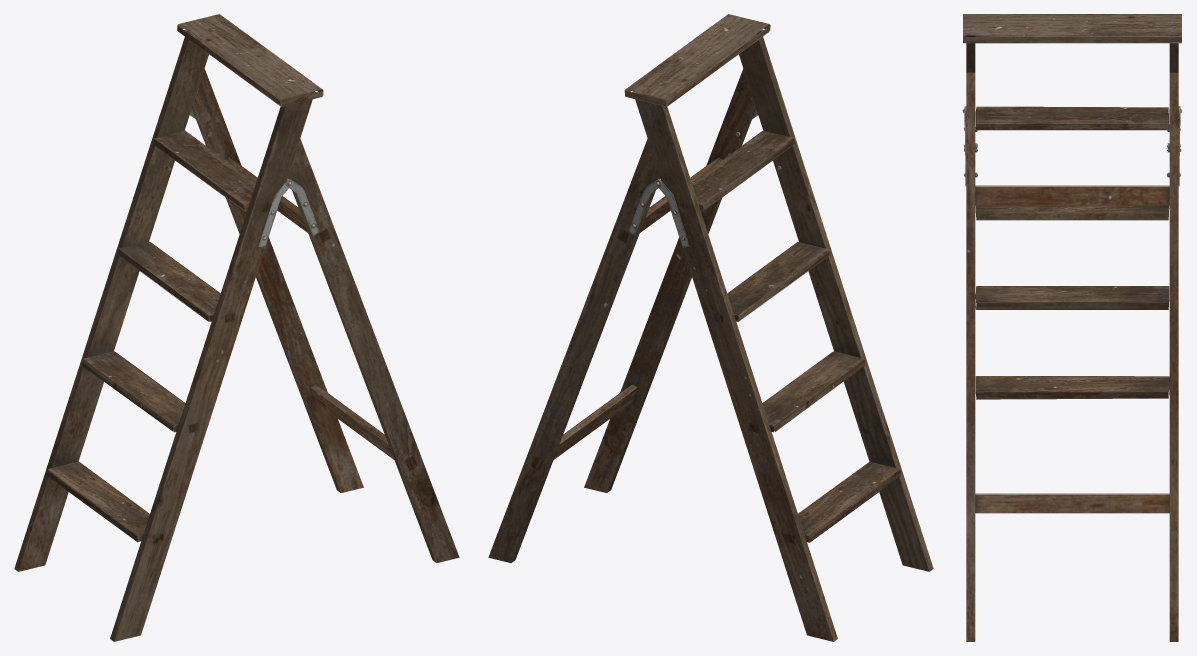
The model's file is wooden_ladder_1k.gltf.lod.glb.
3 renders of one model, left to right at view 1: azimuth 30°, elevation 25°; view 2: azimuth 150°, elevation 25°; view 3: azimuth 270°, elevation 25°, orthographic. The views are drawn at different scales.
Visible parts, largest first — view 1: wooden_ladder_steps, wooden_ladder_supports; view 2: wooden_ladder_steps, wooden_ladder_supports; view 3: wooden_ladder_steps, wooden_ladder_supports.
Boxes of the visible parts, box(x1,y1,x2,y2) form: wooden_ladder_steps: box(14, 14, 323, 641); wooden_ladder_supports: box(190, 68, 459, 562); wooden_ladder_steps: box(624, 14, 933, 641); wooden_ladder_supports: box(488, 68, 757, 562); wooden_ladder_steps: box(963, 14, 1181, 399); wooden_ladder_supports: box(962, 72, 1182, 641).
Size of the model in its own units: 0.9592 by 1.33 by 0.5.
1 material, 1 textured.
